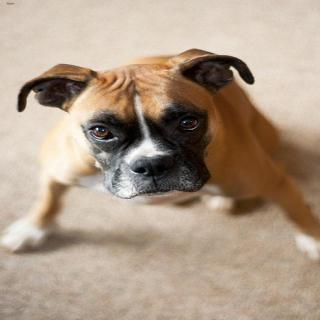dog: (26, 53, 266, 199)
nose: (126, 153, 177, 179)
